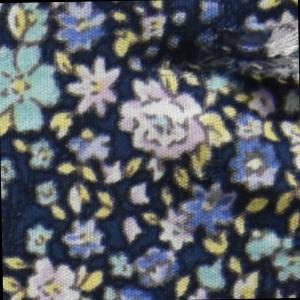Damage: (111, 1, 300, 131)
